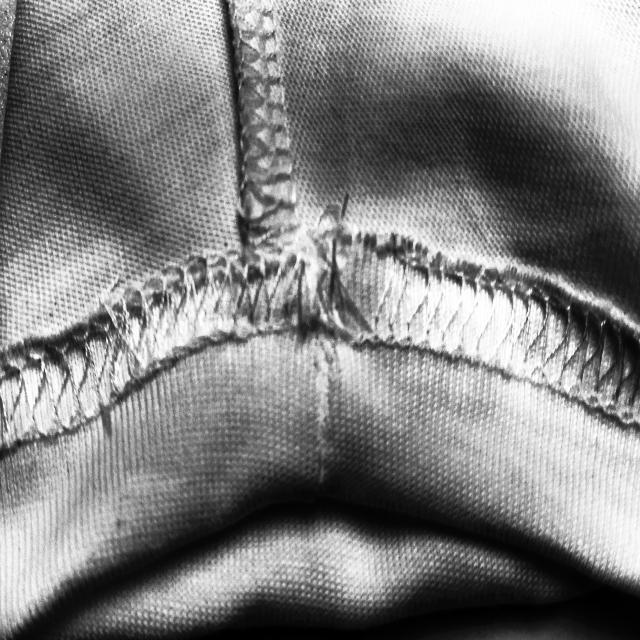Sewing_error: (289, 219, 411, 362)
